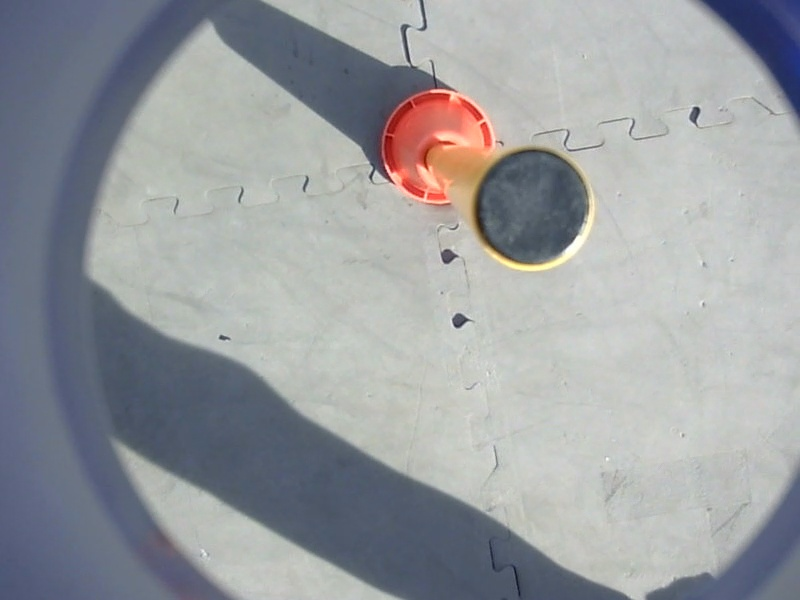tip: (465, 141, 600, 275)
